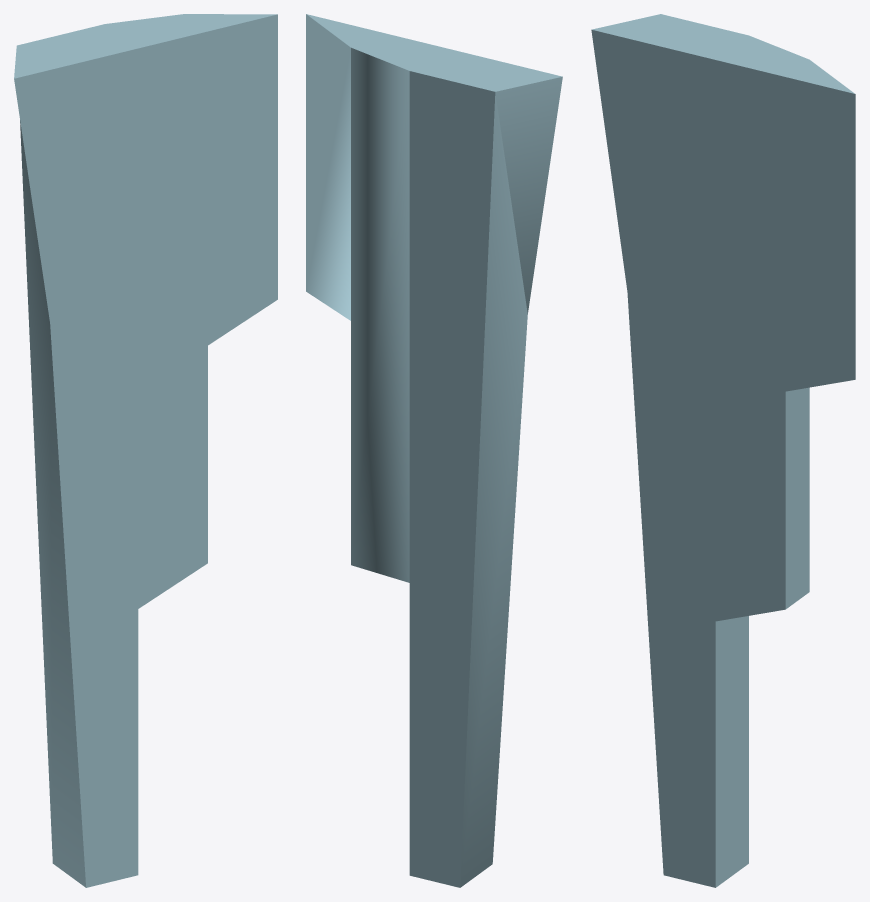
Rendered from cc0-hanging-moss-lod1.glb.
3 views of the same model, side by side, from view 1: azimuth 30°, elevation 25°; view 2: azimuth 150°, elevation 25°; view 3: azimuth 330°, elevation 25° (orthographic). The views are drawn at different scales.
Parts seen in each view (by area): view 1: part_0; view 2: part_0; view 3: part_0.
Boxes of the visible parts, left/top/right/bottom form: part_0: left=14, top=14, right=277, bottom=887; part_0: left=306, top=14, right=562, bottom=887; part_0: left=591, top=14, right=855, bottom=887.
Size of the model in its own units: 0.1598 by 0.4785 by 0.035.
